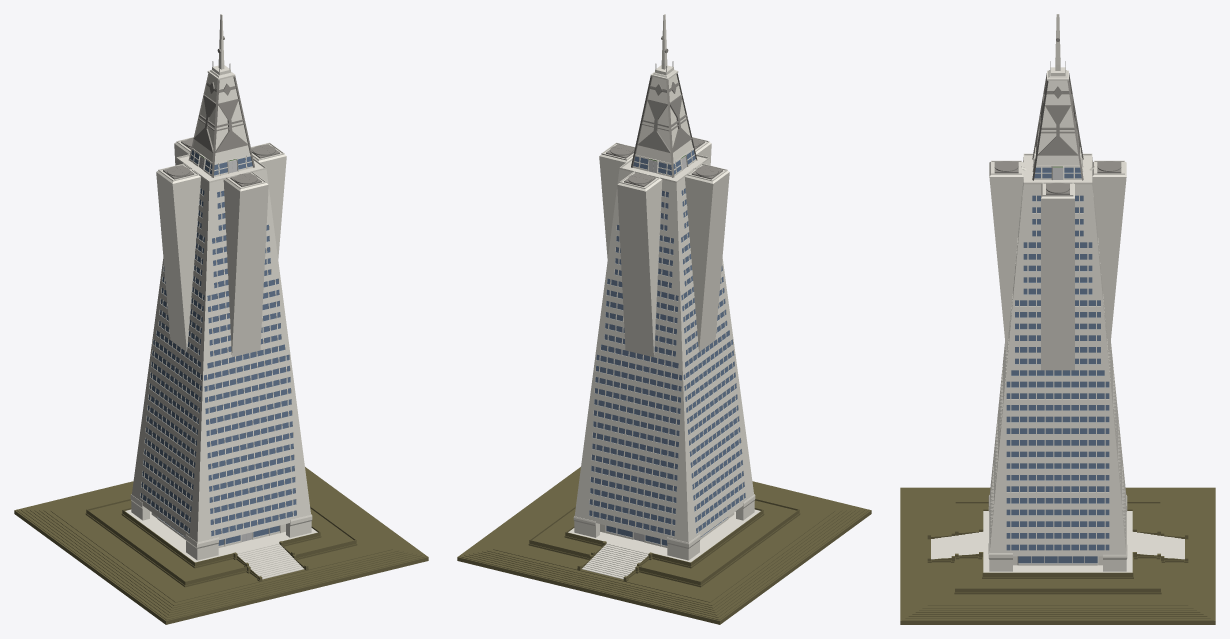
The model's file is San Fran Tower.obj.
The picture shows the model from 3 angles, left to right: view 1: azimuth 30°, elevation 25°; view 2: azimuth 150°, elevation 25°; view 3: azimuth 270°, elevation 25°; orthographic projection. The views are drawn at different scales.
Parts seen in each view (by area): view 1: Mesh1 Model; view 2: Mesh1 Model; view 3: Mesh1 Model.
Part boxes in pixels (x1,y1,x2,y2): Mesh1 Model: (14, 14, 428, 624); Mesh1 Model: (457, 14, 871, 624); Mesh1 Model: (900, 14, 1215, 624).
Bounding box in the file's own units: 92 × 175 × 92.
